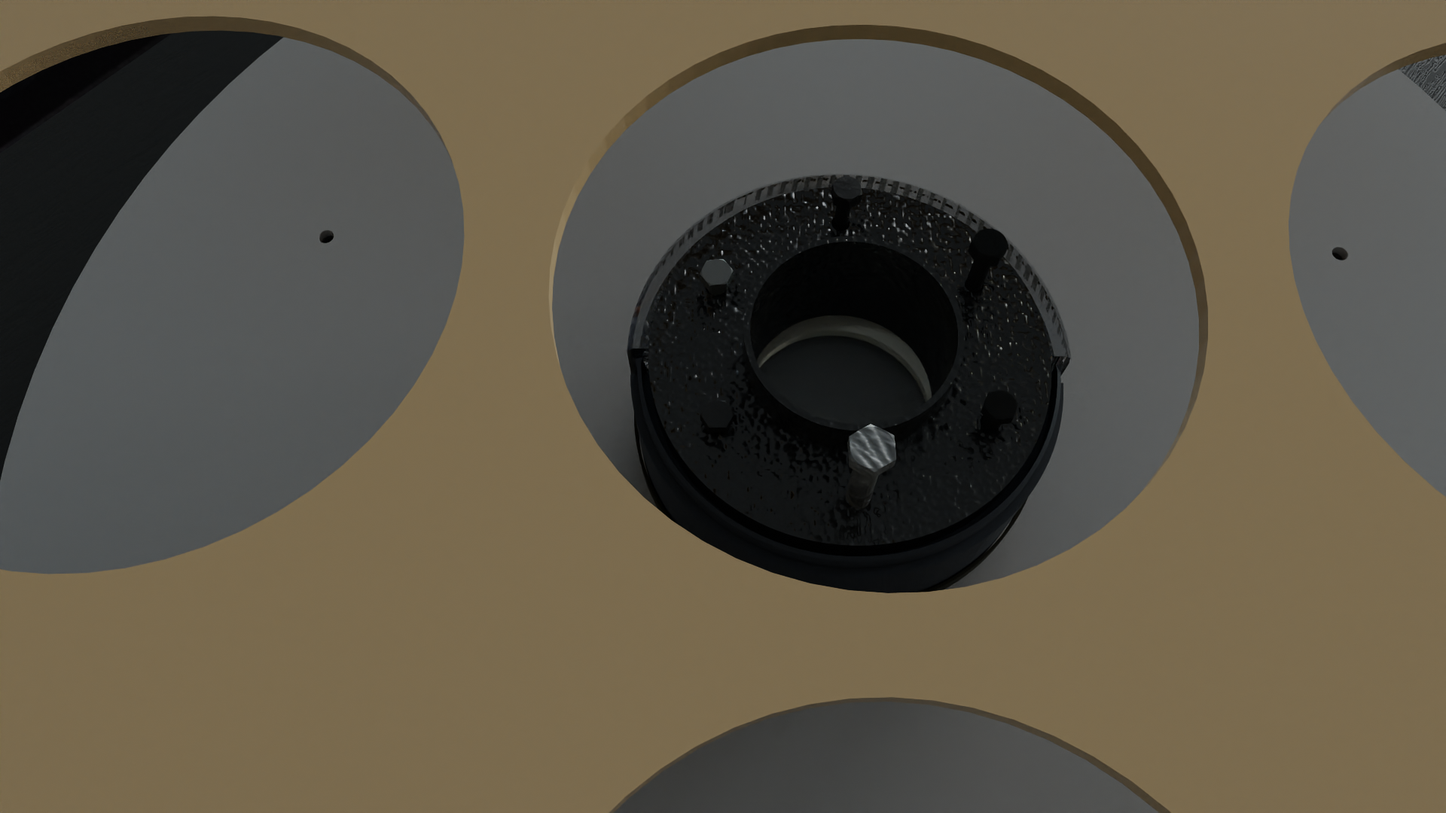bolt: (849, 424, 896, 472), (971, 229, 1008, 259), (984, 390, 1018, 420), (700, 400, 734, 428), (700, 259, 734, 286), (832, 176, 862, 202)
